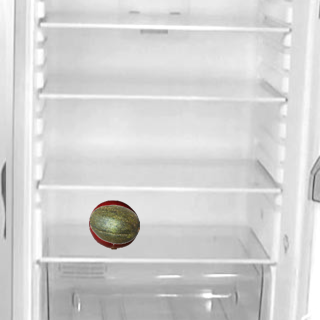Apple Braeburn: (88, 199, 138, 249)
Melon Piel de Sapo: (89, 199, 139, 249)
